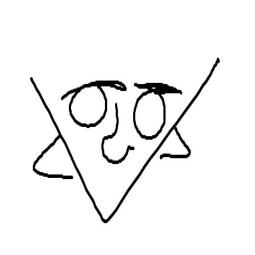ear: (27, 132, 75, 180), (164, 125, 197, 162)
empty_eye: (67, 84, 110, 129), (130, 88, 167, 140)
large_nose: (100, 100, 136, 165)
